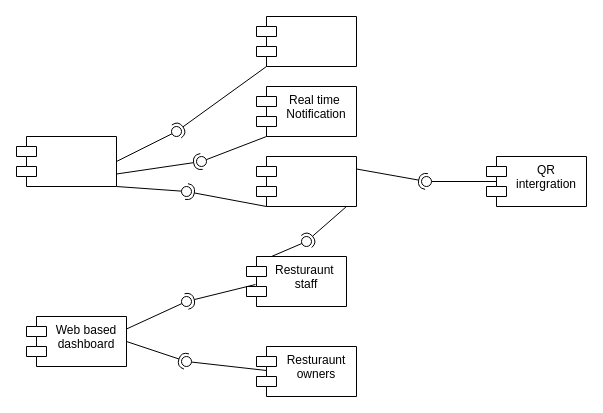
The diagram is 603 pixels wide and 413 high, and some of its shapes have lost their labels. The centre of each missing label's shape, as x and y in pixels:
"Customer" goes at point (66, 161).
"Customer data entry" goes at point (306, 41).
"queue management" goes at point (306, 181).
